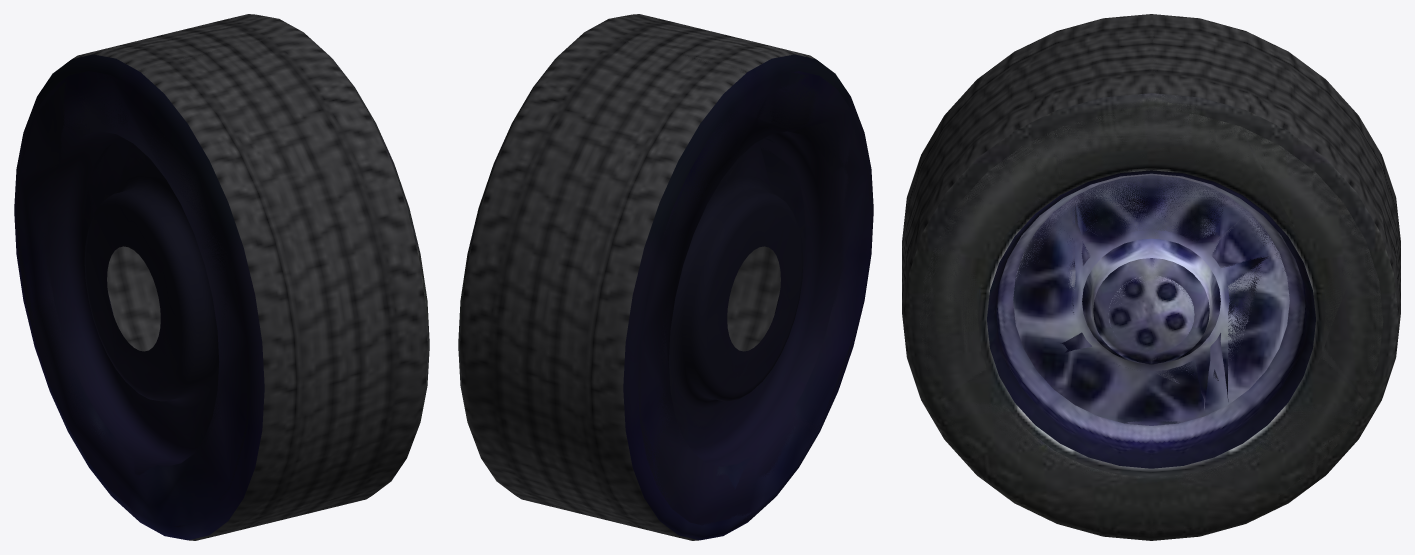
File: Wheel.glb
3 views of the same model, side by side, from view 1: azimuth 30°, elevation 25°; view 2: azimuth 150°, elevation 25°; view 3: azimuth 270°, elevation 25° (orthographic).
Parts seen in each view (by area): view 1: Front Wheel L; view 2: Front Wheel L; view 3: Front Wheel L.
Boxes of the visible parts, x1=… form: Front Wheel L: x1=14, y1=14, x2=429, y2=540; Front Wheel L: x1=458, y1=14, x2=873, y2=540; Front Wheel L: x1=902, y1=14, x2=1400, y2=540.
Bounding box in the file's own units: 0.1235 × 0.3029 × 0.3029.
Materials: 2 (2 with a texture image).
